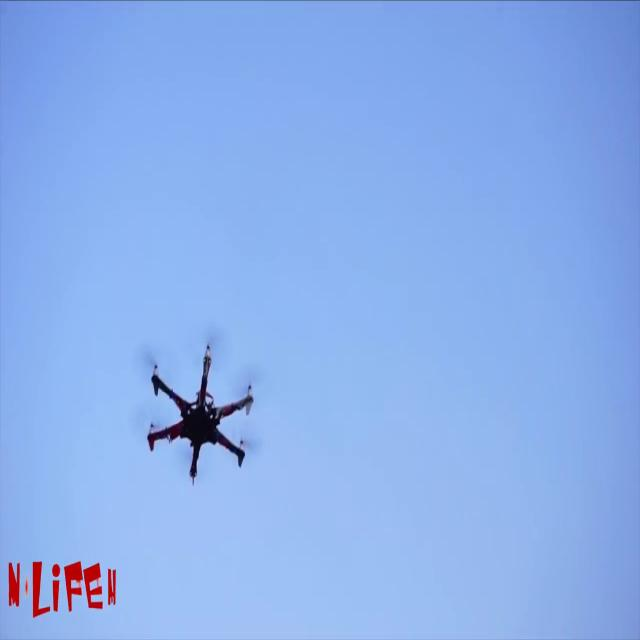drone: (133, 349, 264, 485)
